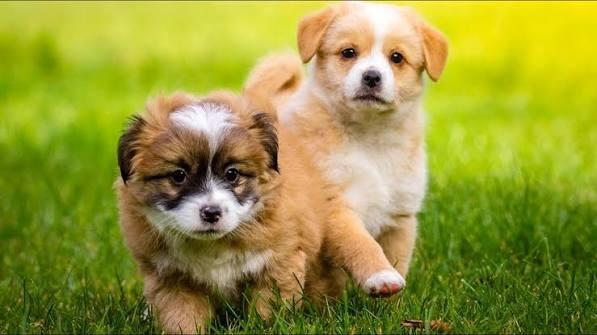puppy-dog: (115, 84, 401, 334), (236, 1, 452, 302)
